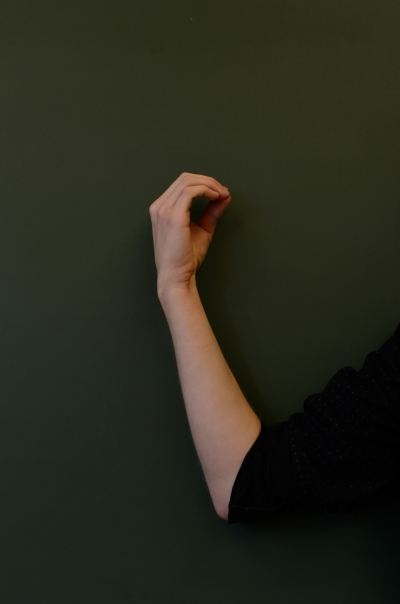hand: (144, 167, 239, 285)
